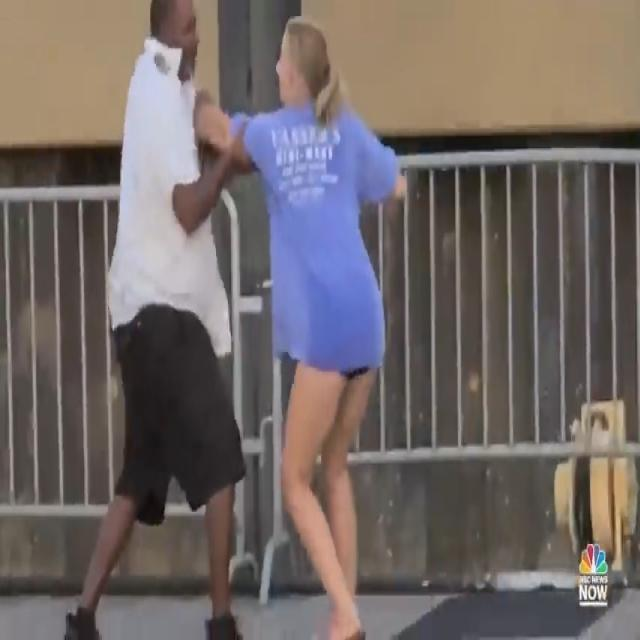fight: (56, 0, 415, 639)
